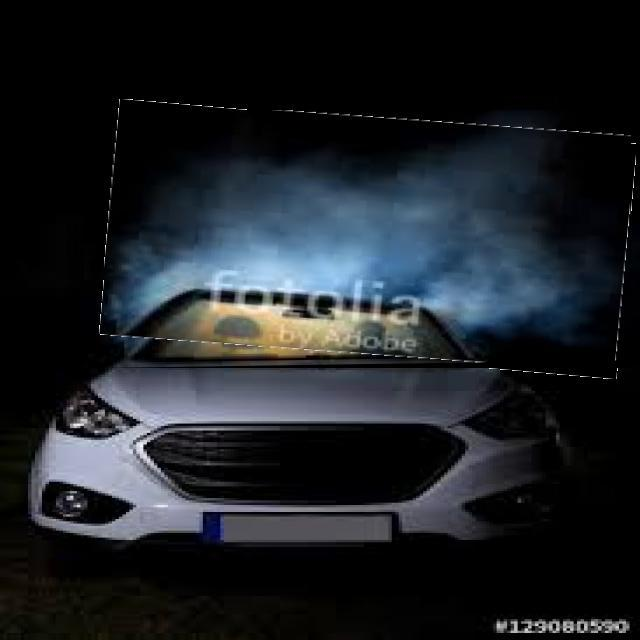smoke: (119, 140, 616, 279), (426, 278, 609, 340), (99, 280, 178, 338)
